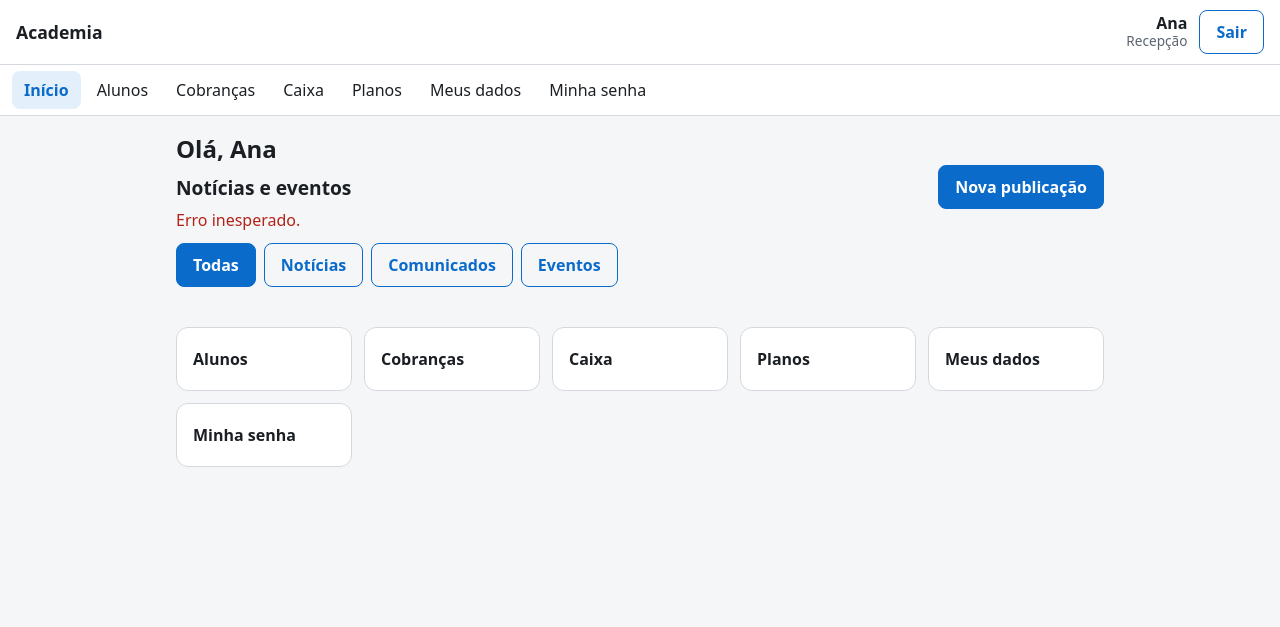
Test case: App › sair volta ao login e encerra a sessão no servidor
This screenshot has width=1280, height=627.
Step 1. Click the button "Sair" → (1232, 32), box [1199,10,1264,54]
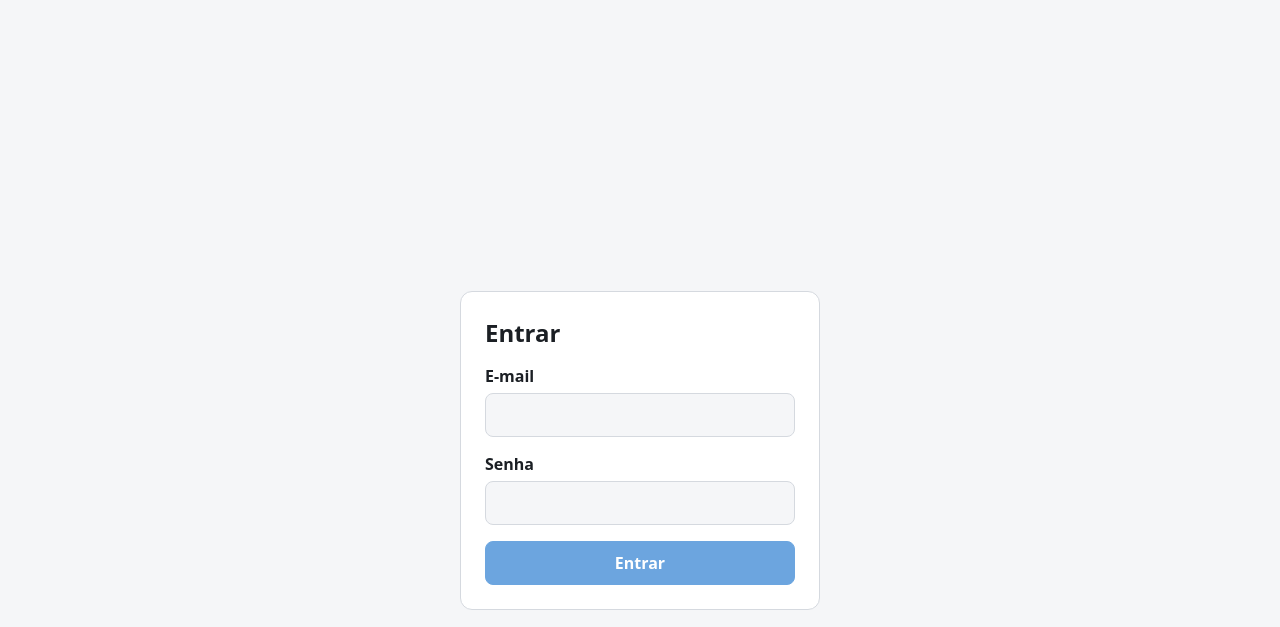
Check: the heading "Entrar" is shown, box [485,316,560,348]
